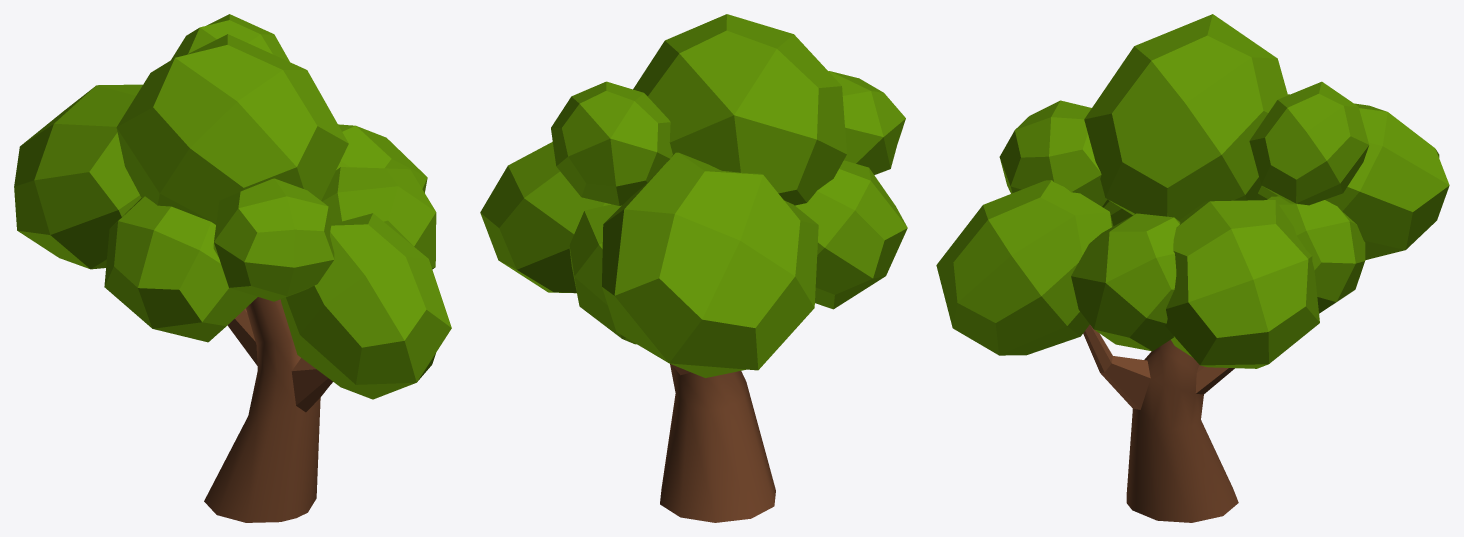
File: tree.fbx
The picture shows the model from 3 angles, left to right: view 1: azimuth 30°, elevation 25°; view 2: azimuth 150°, elevation 25°; view 3: azimuth 270°, elevation 25°; orthographic projection. The views are drawn at different scales.
Visible parts, largest first — view 1: polySurface38, polySurface36, trunk, polySurface3, polySurface43, polySurface41, polySurface40, polySurface37, polySurface42; view 2: polySurface3, polySurface38, trunk, polySurface42, polySurface37, polySurface43, polySurface41, polySurface39; view 3: polySurface38, polySurface37, polySurface36, trunk, polySurface40, polySurface3, polySurface42, polySurface41, polySurface39.
Part boxes in pixels (left/top/right/bottom): polySurface38: left=116, top=34, right=348, bottom=224; polySurface36: left=281, top=213, right=451, bottom=399; trunk: left=204, top=297, right=332, bottom=522; polySurface3: left=14, top=84, right=142, bottom=269; polySurface43: left=104, top=196, right=257, bottom=342; polySurface41: left=213, top=178, right=334, bottom=301; polySurface40: left=321, top=167, right=436, bottom=269; polySurface37: left=336, top=124, right=427, bottom=192; polySurface42: left=171, top=14, right=289, bottom=61; polySurface3: left=602, top=152, right=818, bottom=377; polySurface38: left=633, top=14, right=846, bottom=205; trunk: left=660, top=364, right=775, bottom=522; polySurface42: left=551, top=81, right=672, bottom=205; polySurface37: left=480, top=142, right=610, bottom=293; polySurface43: left=795, top=160, right=907, bottom=309; polySurface41: left=828, top=71, right=905, bottom=174; polySurface39: left=569, top=204, right=636, bottom=344; polySurface38: left=1084, top=14, right=1287, bottom=220; polySurface37: left=1165, top=200, right=1319, bottom=368; polySurface36: left=936, top=180, right=1113, bottom=355; trunk: left=1083, top=324, right=1238, bottom=522; polySurface40: left=1071, top=213, right=1180, bottom=351; polySurface3: left=1256, top=94, right=1449, bottom=260; polySurface42: left=1249, top=81, right=1368, bottom=205; polySurface41: left=999, top=100, right=1109, bottom=207; polySurface39: left=1267, top=196, right=1365, bottom=313.
Size of the model in its own units: 5.03 by 6.52 by 6.68.
